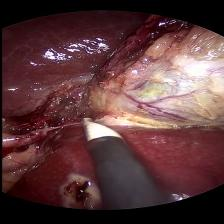Hook: (72, 116, 122, 148)
